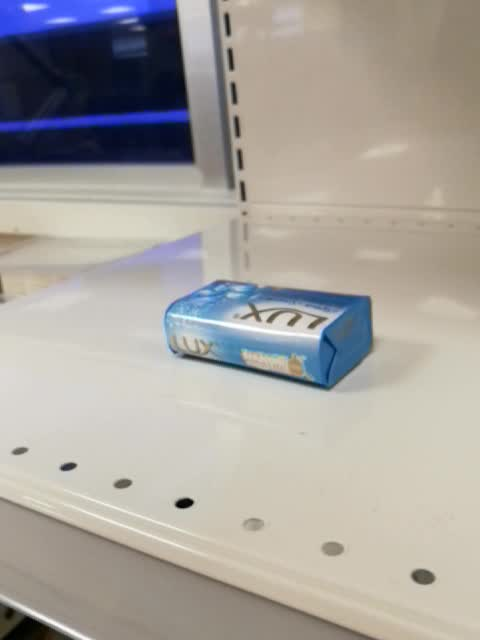soap: (163, 279, 374, 392)
